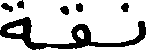ة: (0, 0, 29, 49)
ق: (58, 1, 89, 49)
ن: (119, 1, 144, 48)
